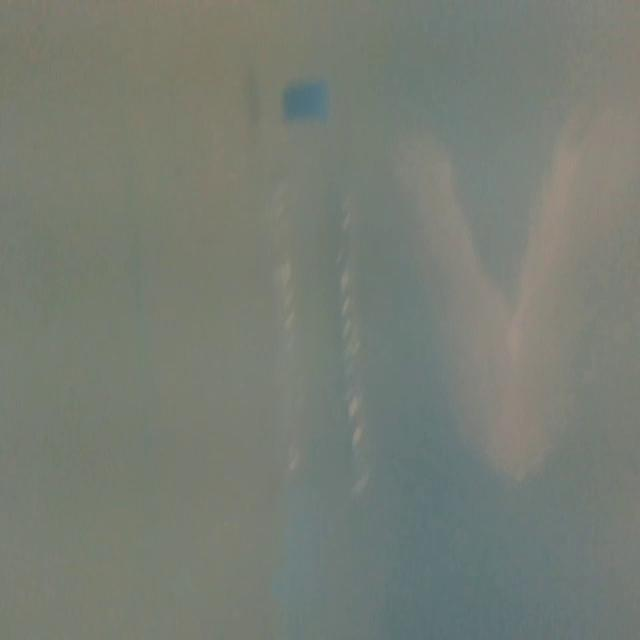plastic bags: (402, 138, 604, 481)
plastic bottle: (260, 69, 378, 508)
